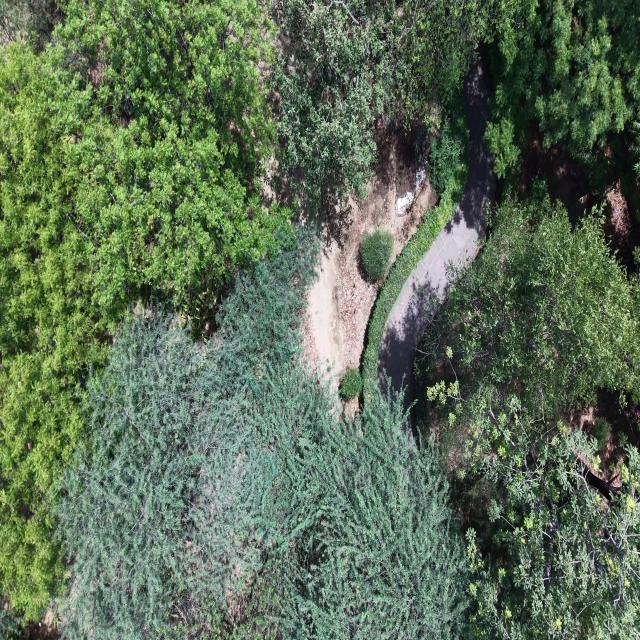DRY_AREA: (304, 130, 435, 388), (518, 125, 639, 270)
PATHWAYS: (378, 63, 495, 408)
VEGETATION_TREE: (0, 0, 639, 639), (61, 239, 637, 637), (0, 0, 286, 619), (0, 0, 285, 618), (58, 236, 466, 638), (57, 235, 328, 638), (419, 198, 639, 638), (421, 198, 639, 638), (56, 310, 251, 638), (452, 379, 637, 637), (274, 0, 504, 207), (425, 197, 639, 412), (281, 394, 467, 639), (467, 398, 639, 639), (485, 0, 639, 221), (363, 95, 468, 401), (486, 0, 639, 177), (274, 0, 394, 208), (363, 183, 463, 402), (390, 0, 512, 127), (428, 96, 468, 195), (0, 0, 63, 50), (360, 229, 393, 282), (340, 368, 362, 401), (0, 608, 22, 639), (590, 418, 611, 450), (631, 116, 639, 158)
